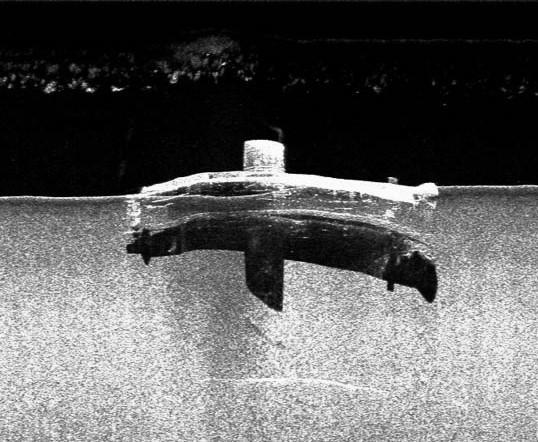ship: (122, 137, 442, 265)
